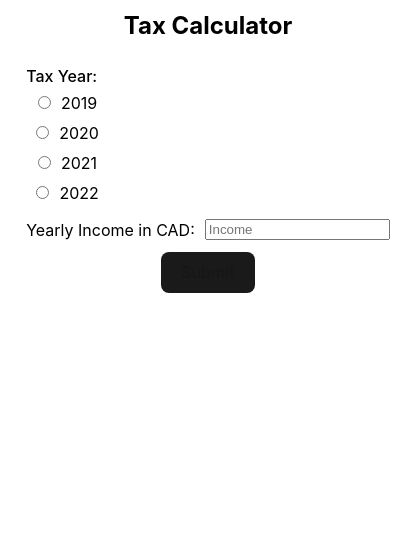
Test: Test Button Component › Can Submit With Valid Input
Type "65000" into the number field with placeholder "Income".
click(297, 230); type("65000")  # box [205,219,390,240]
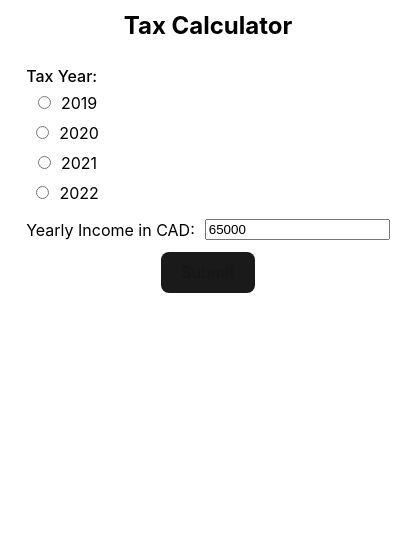
Click the text "2019".
click(79, 103)  # box [61,93,97,113]
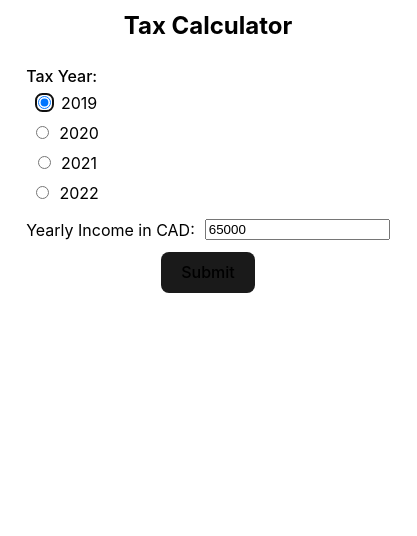
Click the button "Submit".
click(208, 272)  # box [161,252,255,293]
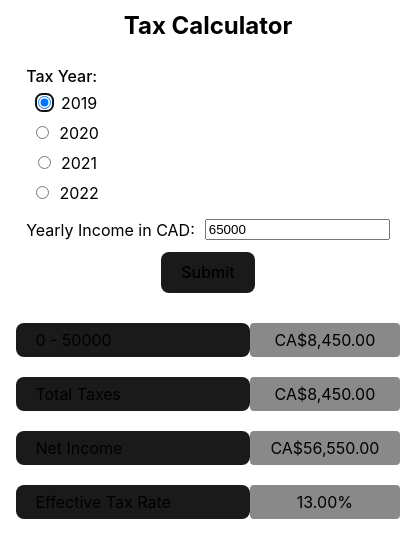
Result: the text "Effective Tax Rate" is shown at [16,485,250,519]
Result: the text "13.00%" is shown at [250,485,400,519]
